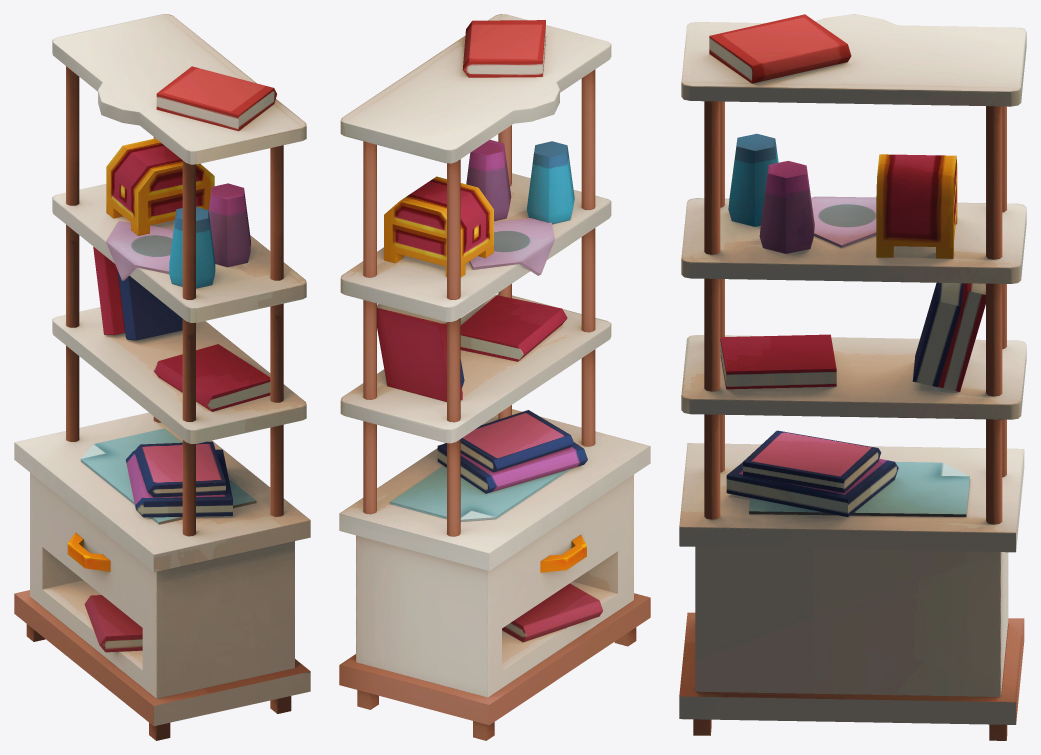
Rendered from polica.gltf.
3 renders of one model, left to right at view 1: azimuth 30°, elevation 25°; view 2: azimuth 150°, elevation 25°; view 3: azimuth 270°, elevation 25°, orthographic. The views are drawn at different scales.
Parts seen in each view (by area): view 1: Cupboard_Cupboard1_0; view 2: Cupboard_Cupboard1_0; view 3: Cupboard_Cupboard1_0.
Boxes of the visible parts, x1=… form: Cupboard_Cupboard1_0: x1=14, y1=14, x2=310, y2=740; Cupboard_Cupboard1_0: x1=339, y1=14, x2=650, y2=740; Cupboard_Cupboard1_0: x1=679, y1=14, x2=1026, y2=740.
Bounding box in the file's own units: 0.9776 × 3.35 × 1.56.
1 material, 1 textured.
